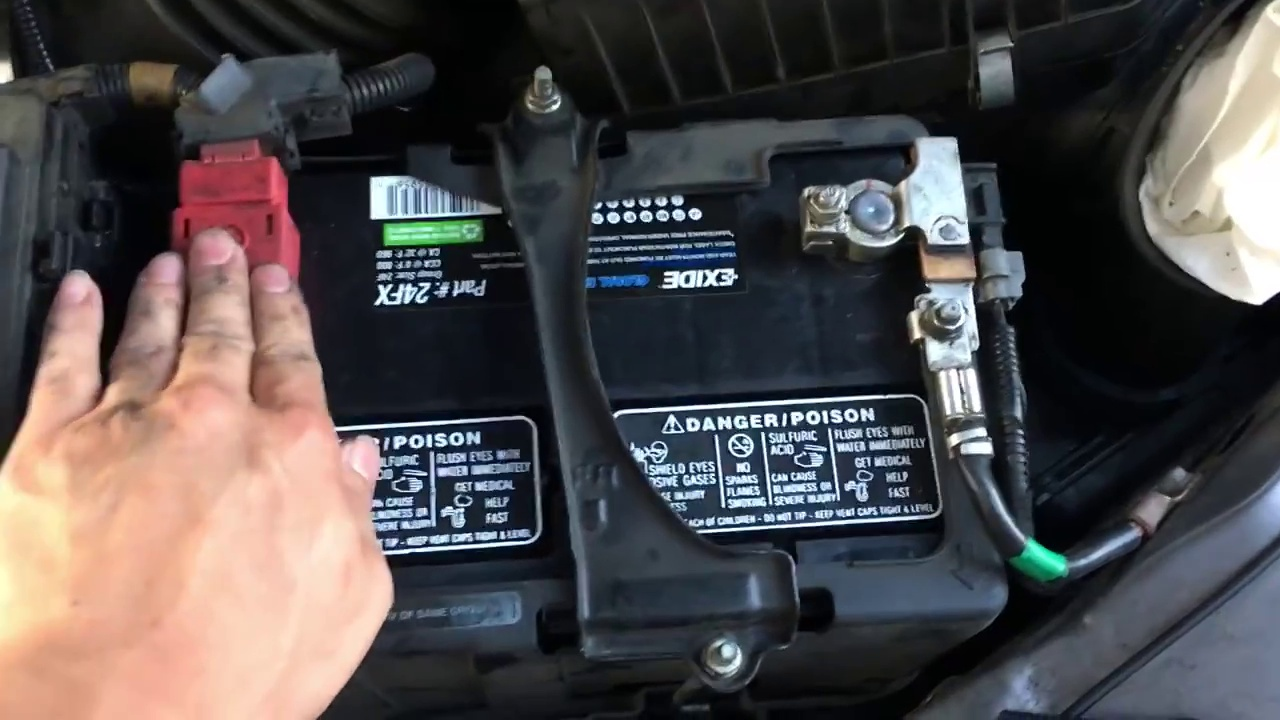battery: (123, 121, 992, 625)
neg_connected: (777, 138, 988, 287)
pos_touched: (144, 122, 311, 354)
